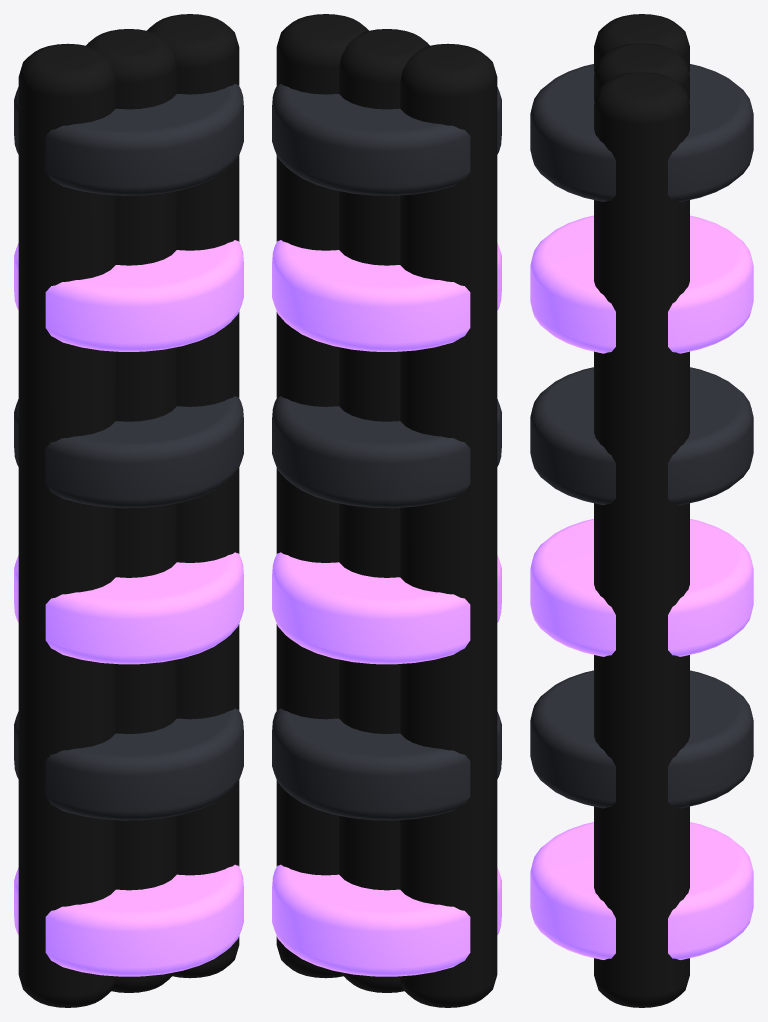
3 views of the same model, side by side, from view 1: azimuth 30°, elevation 25°; view 2: azimuth 150°, elevation 25°; view 3: azimuth 270°, elevation 25° (orthographic). The views are drawn at different scales.
Visible parts, largest first — view 1: part_018; view 2: part_018; view 3: part_018.
Part boxes in pixels (x1=…): part_018: x1=14, y1=14, x2=243, y2=1007; part_018: x1=272, y1=14, x2=501, y2=1007; part_018: x1=530, y1=14, x2=753, y2=1007.
Size of the model in its own units: 0.102 by 0.44 by 0.098.
